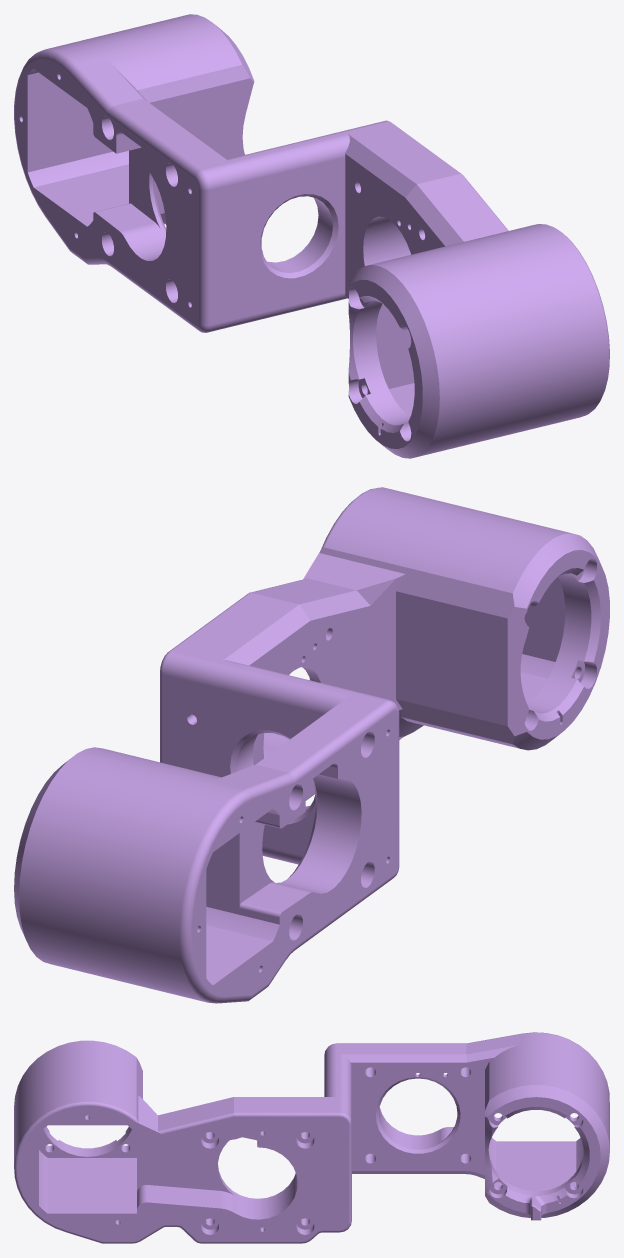
The model's file is Main_CaseJoint2_3.001.dae.
The picture shows the model from 3 angles, top to bottom: view 1: azimuth 30°, elevation 25°; view 2: azimuth 150°, elevation 25°; view 3: azimuth 270°, elevation 25°; orthographic projection. The views are drawn at different scales.
Visible parts, largest first — view 1: Main_CaseJoint2_3.000; view 2: Main_CaseJoint2_3.000; view 3: Main_CaseJoint2_3.000.
Part boxes in pixels (left/top/right/bottom): Main_CaseJoint2_3.000: left=14, top=14, right=609, bottom=458; Main_CaseJoint2_3.000: left=14, top=487, right=609, bottom=1003; Main_CaseJoint2_3.000: left=14, top=1032, right=609, bottom=1243.
Bounding box in the file's own units: 0.0558 × 0.194 × 0.051.
